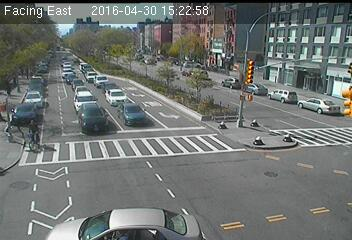neg: (108, 78, 141, 122), (18, 115, 50, 158), (110, 170, 138, 207), (274, 127, 301, 162), (181, 86, 205, 118), (238, 132, 261, 163), (214, 39, 235, 68), (258, 66, 277, 91), (165, 164, 182, 186), (43, 32, 59, 54), (301, 60, 317, 80), (134, 30, 149, 51), (296, 21, 311, 41)
